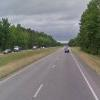Tree: (74, 4, 100, 61)
